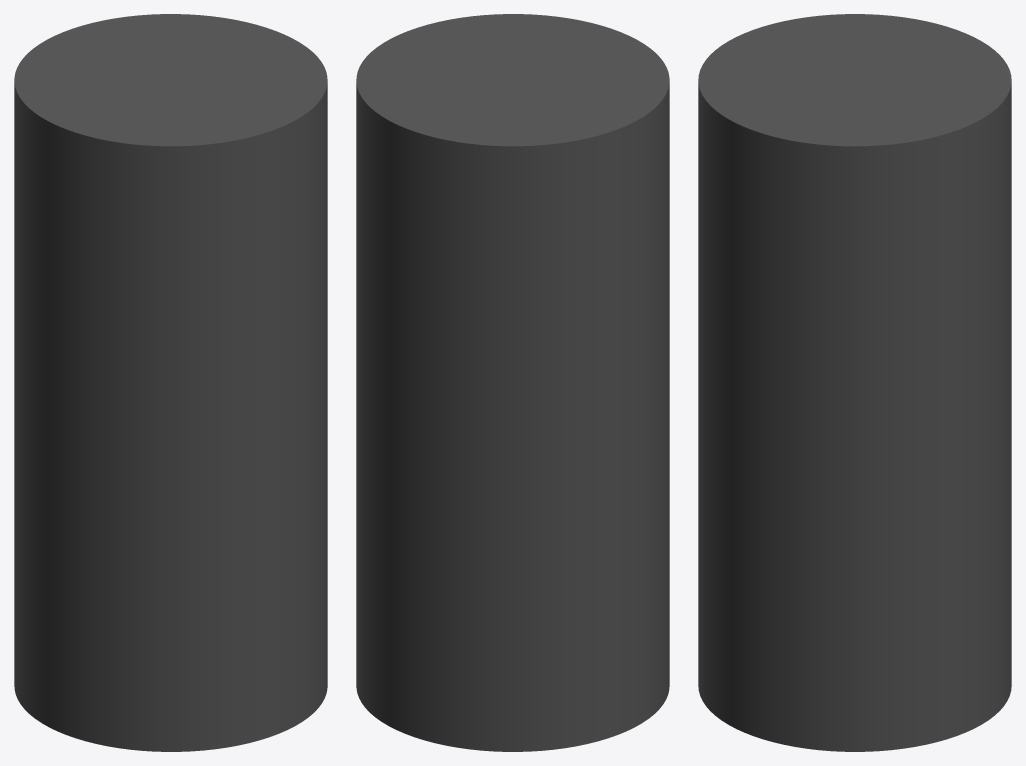
The model's file is workspecimen.glb.
3 views of the same model, side by side, from view 1: azimuth 30°, elevation 25°; view 2: azimuth 150°, elevation 25°; view 3: azimuth 270°, elevation 25° (orthographic).
Visible parts, largest first — view 1: mesh_id27; view 2: mesh_id27; view 3: mesh_id27.
Boxes of the visible parts, x1,y1,x2,y2 form: mesh_id27: (14, 14, 327, 751); mesh_id27: (356, 14, 669, 751); mesh_id27: (698, 14, 1011, 751).
Size of the model in its own units: 0.1545 by 0.3296 by 0.1545.
Materials: 1 (1 with a texture image).
